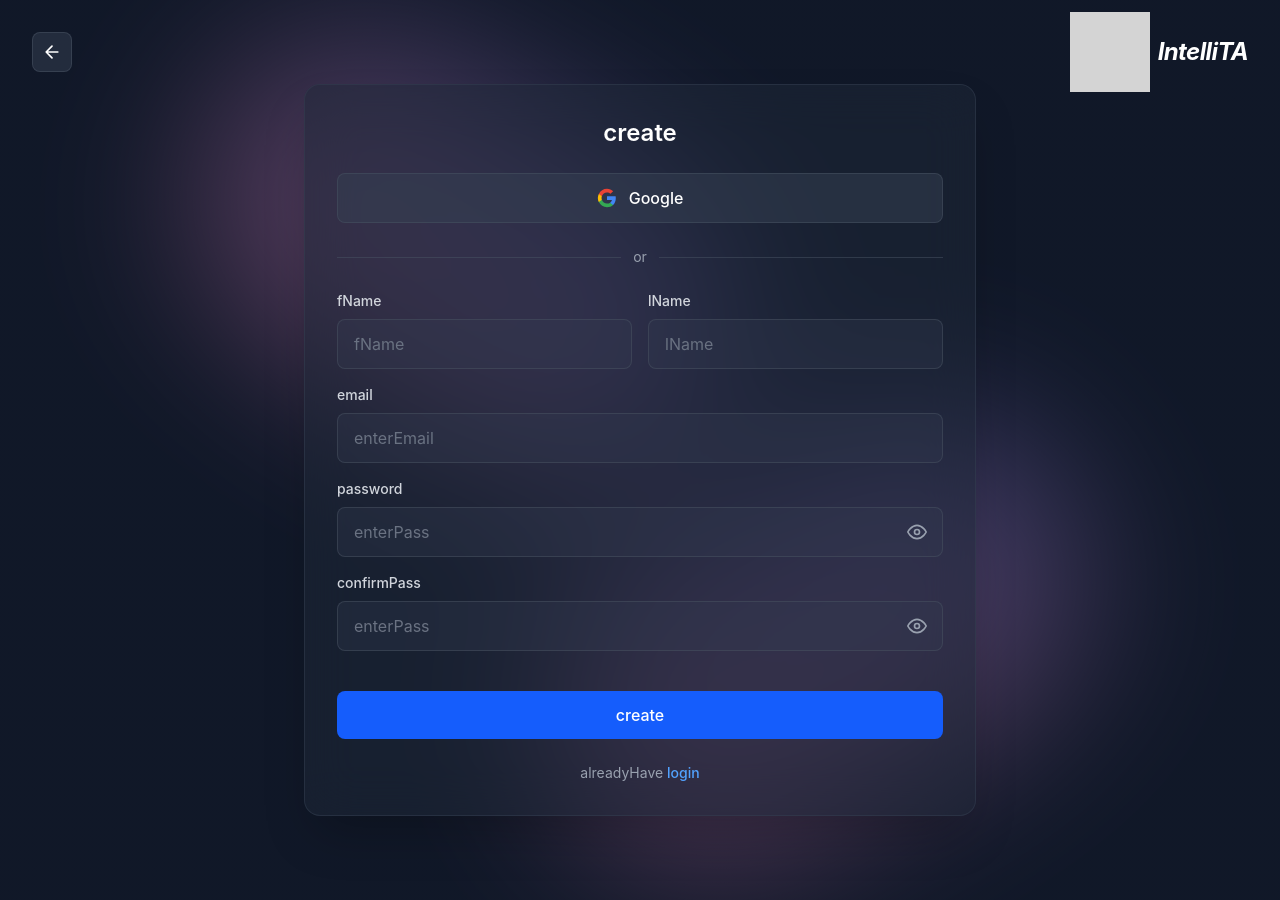
Test case: SignUp — email/password flow › email-already-in-use shows errEmailInUse
Type "Test" into the field labelled "fName" at [484, 344], box [337,319,632,369]
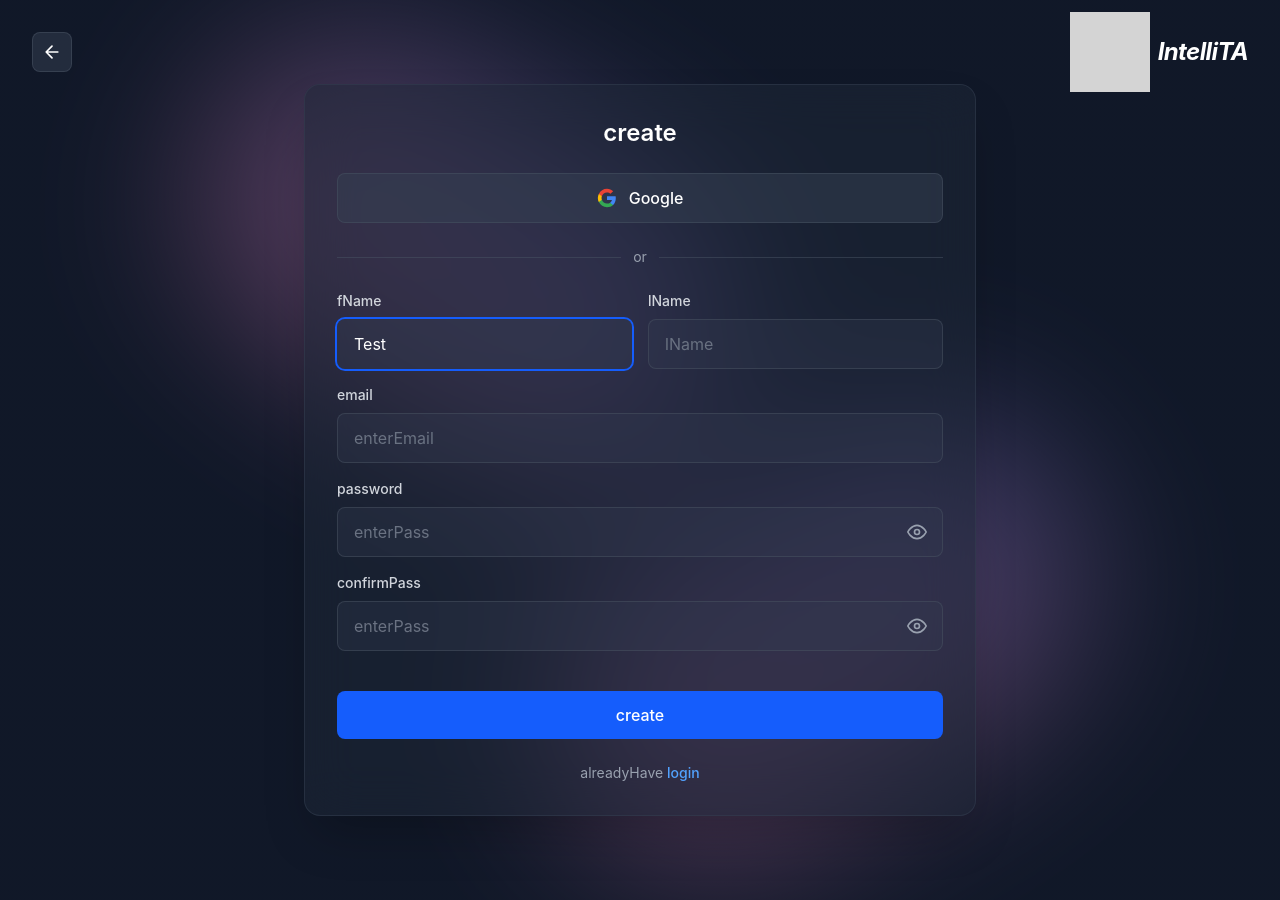
Type "User" into the field labelled "lName" at [796, 344], box [648,319,943,369]
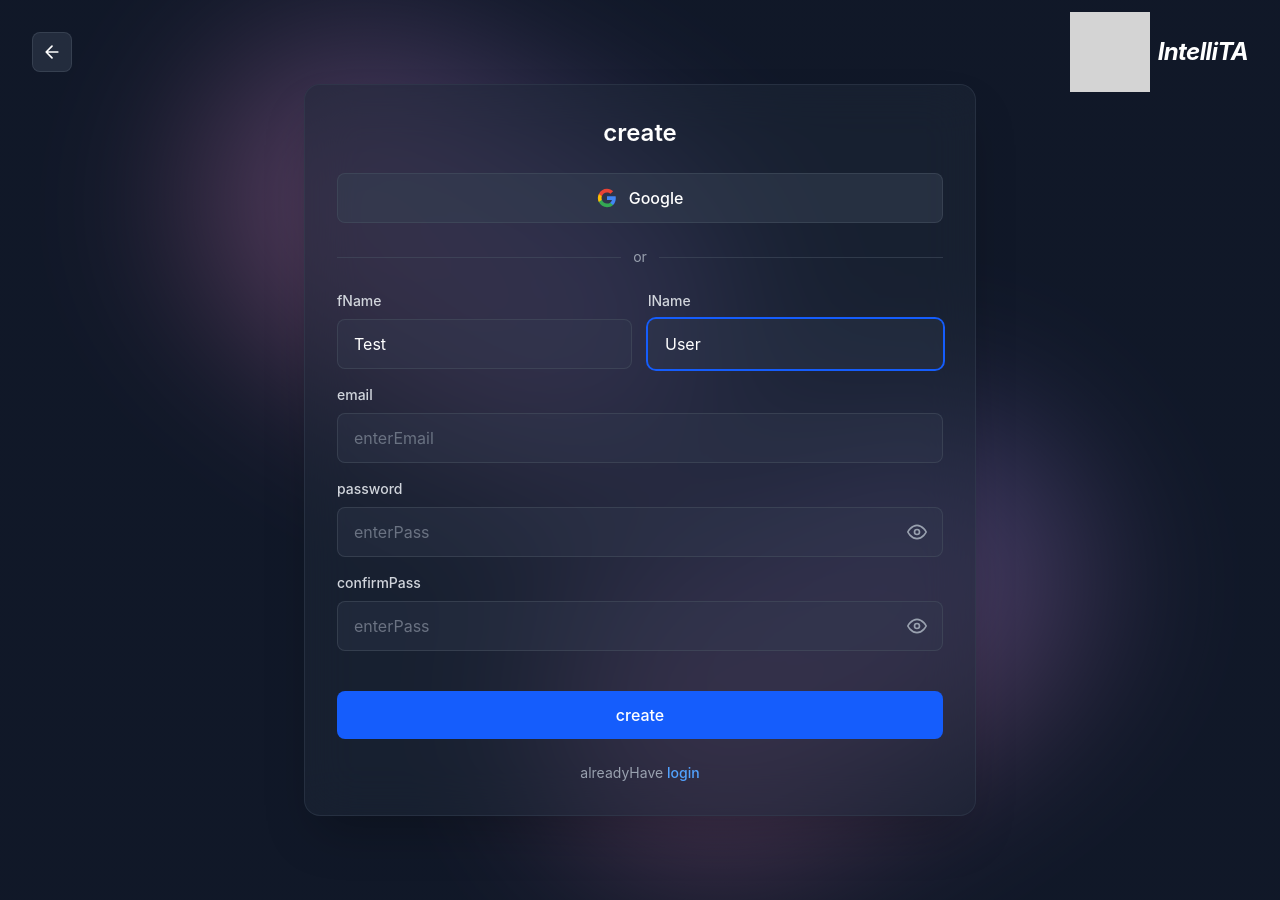
Type "student@stu.kau.edu.sa" into the field labelled "email" at [640, 438], box [337,413,943,463]
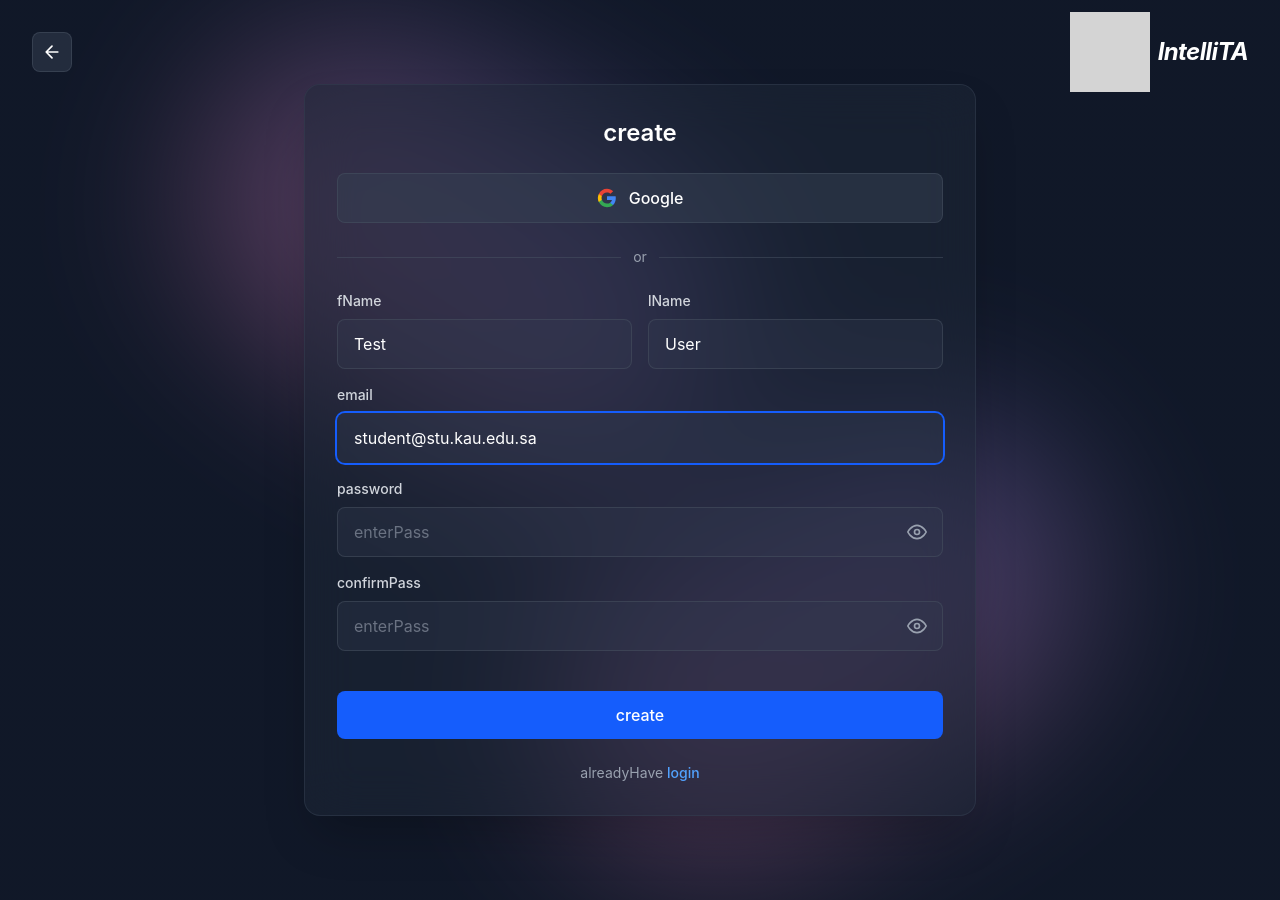
Type "password123" into the password field labelled "password" at [640, 532], box [337,507,943,557]
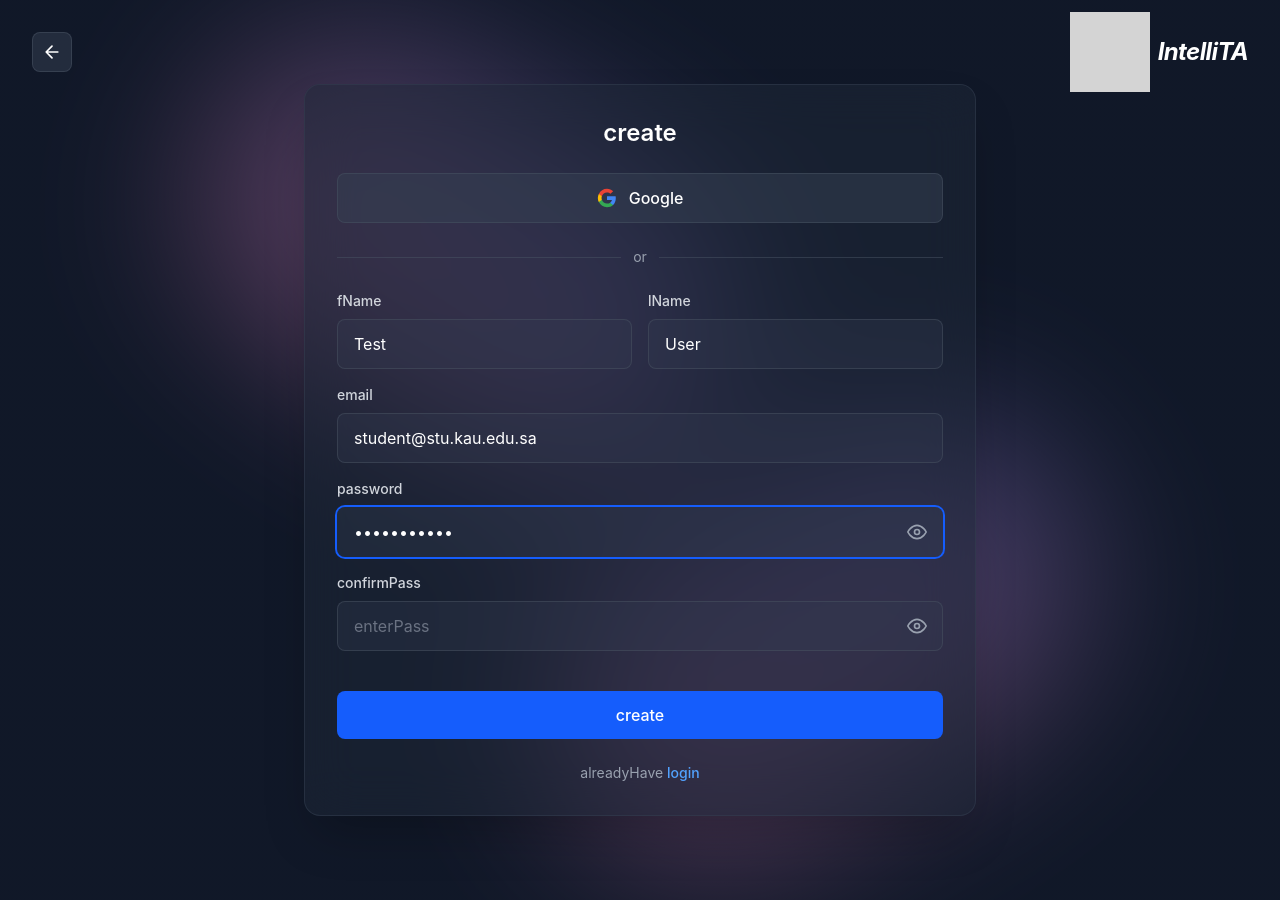
Type "password123" into the password field labelled "confirmPass" at [640, 626], box [337,601,943,651]
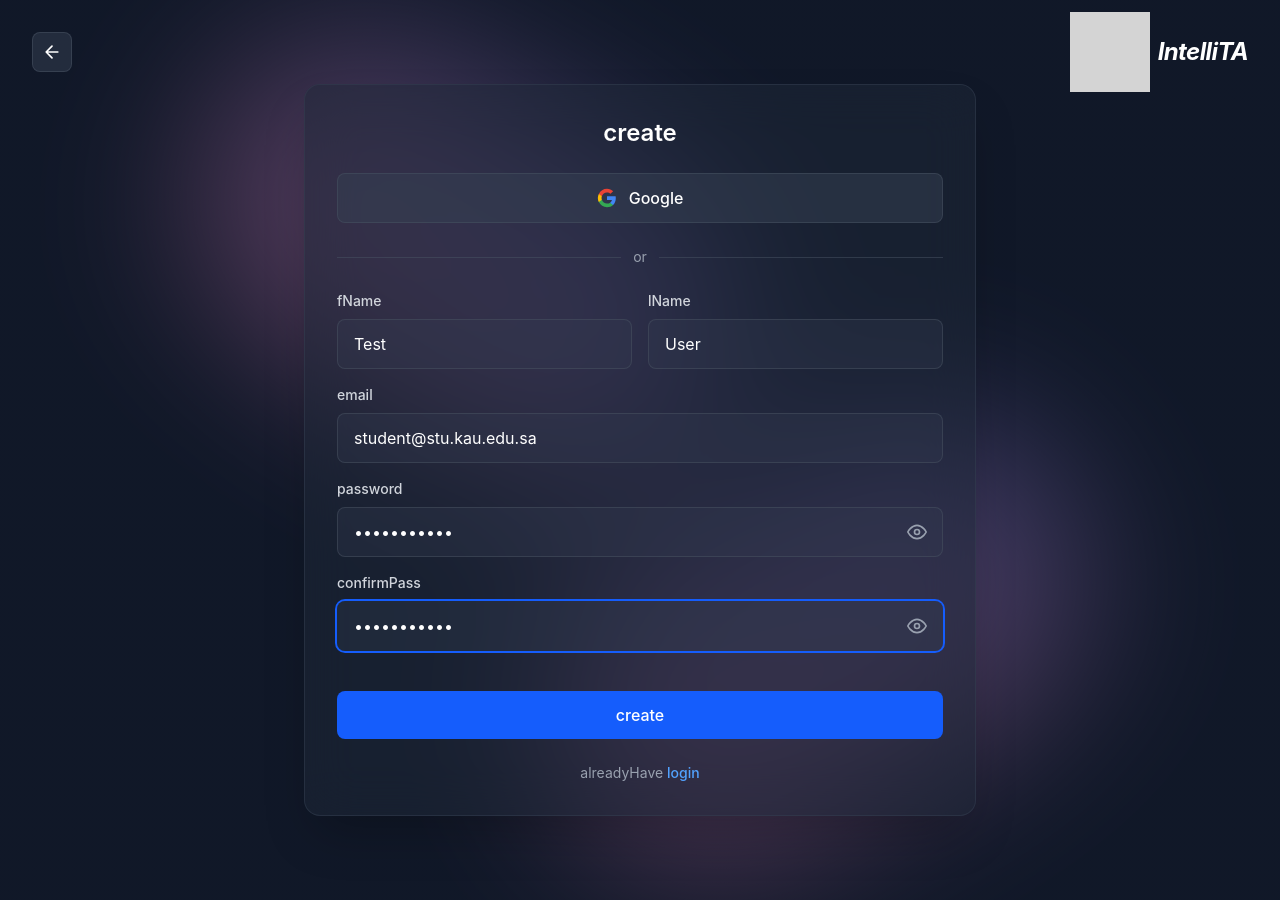
Click the submit button at [640, 715], box [337,691,943,739]
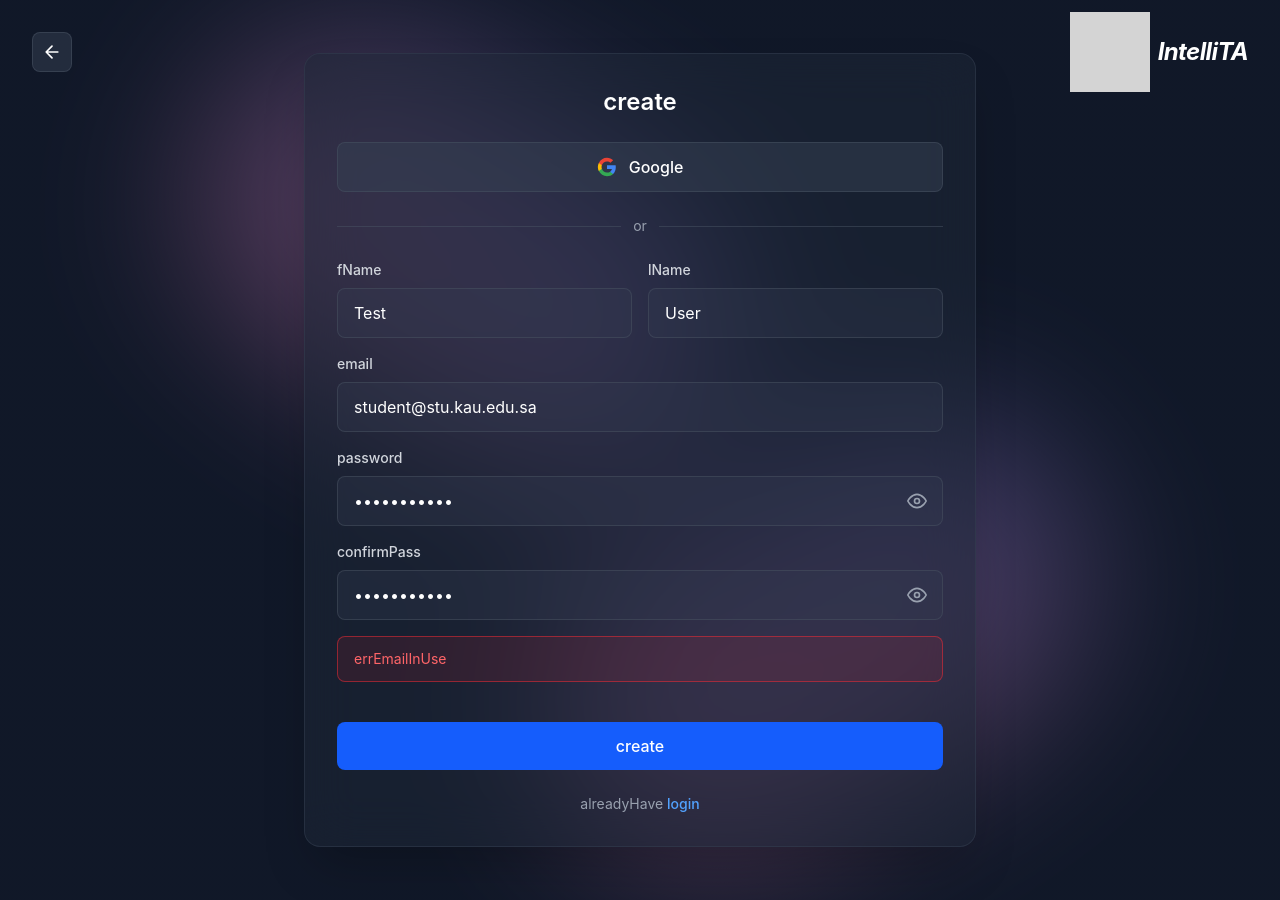
Expected: the text "errEmailInUse" is shown, [337,636,943,682]
